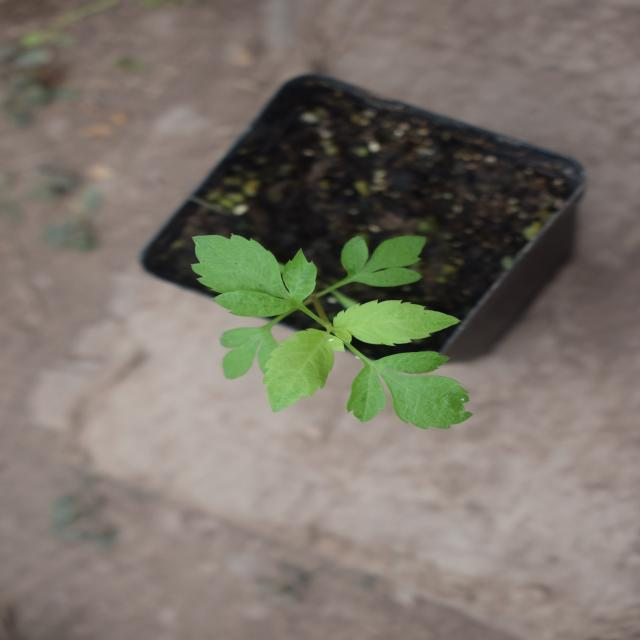Bidens pilosa: (187, 173, 422, 476)
